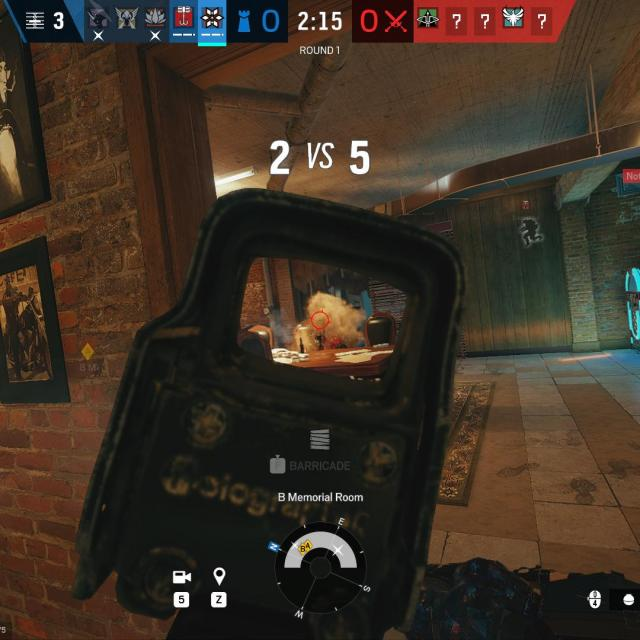Friend_label: (512, 198, 542, 222)
